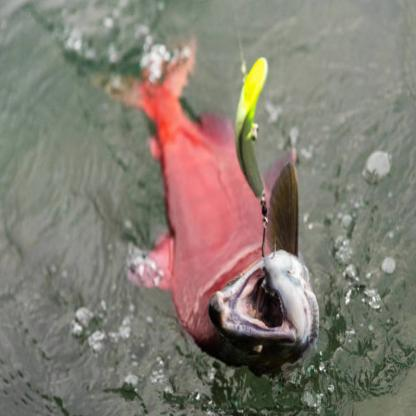sockeye: (95, 36, 317, 376)
